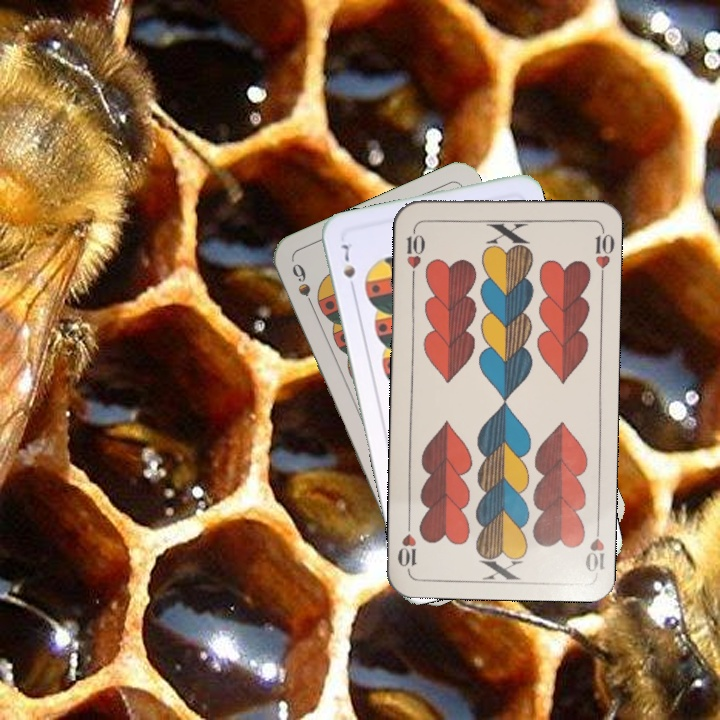H10: (581, 516, 607, 574), (402, 223, 427, 282)
S7: (337, 240, 358, 295)
S9: (287, 259, 319, 316)
